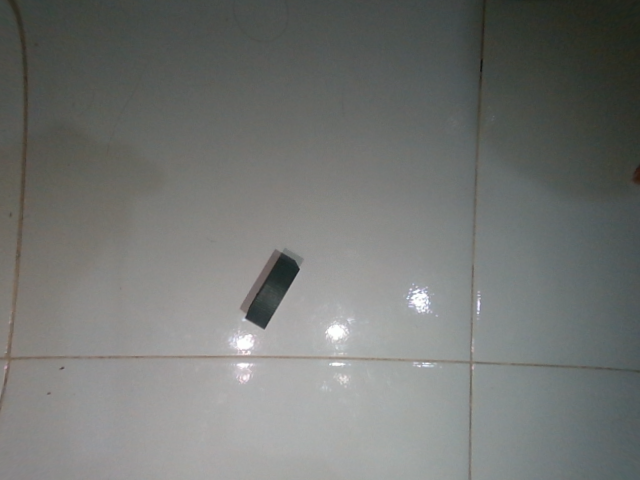Balok-Hitam: (244, 256, 302, 329)
